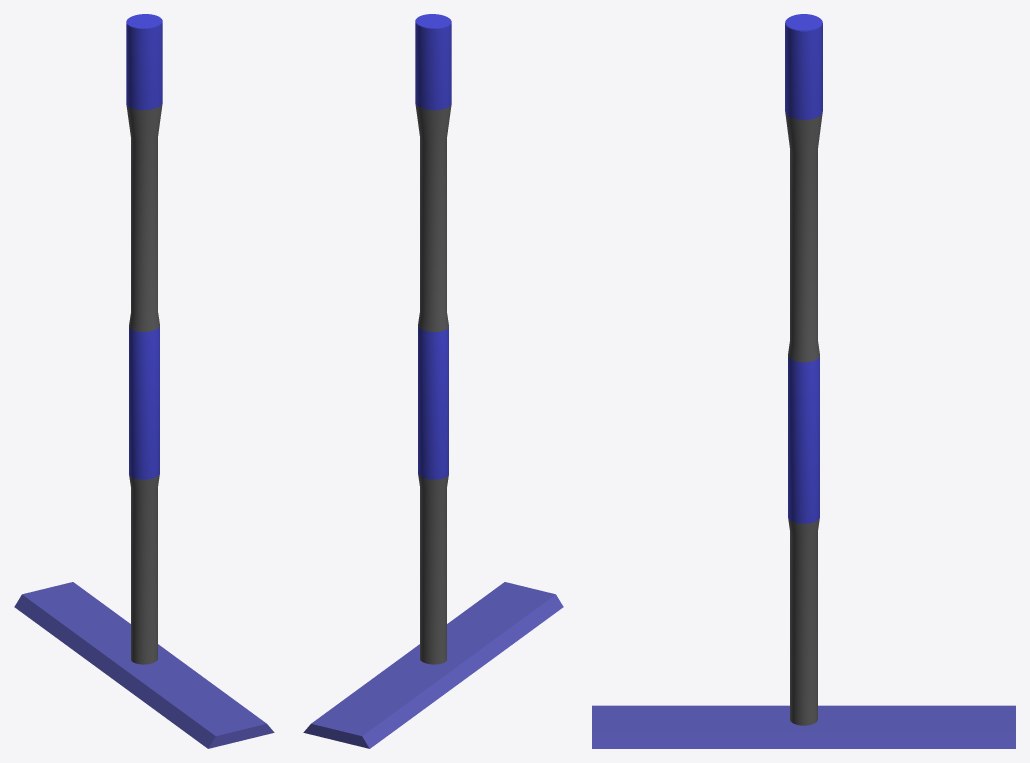
The model's file is MopOnly.fbx.
3 views of the same model, side by side, from view 1: azimuth 30°, elevation 25°; view 2: azimuth 150°, elevation 25°; view 3: azimuth 270°, elevation 25° (orthographic). The views are drawn at different scales.
Parts seen in each view (by area): view 1: Cylinder; view 2: Cylinder; view 3: Cylinder.
Boxes of the visible parts, left/top/right/bottom form: Cylinder: left=14, top=14, right=274, bottom=748; Cylinder: left=303, top=14, right=563, bottom=748; Cylinder: left=592, top=14, right=1015, bottom=748.
Bounding box in the file's own units: 45.74 × 426 × 231.
